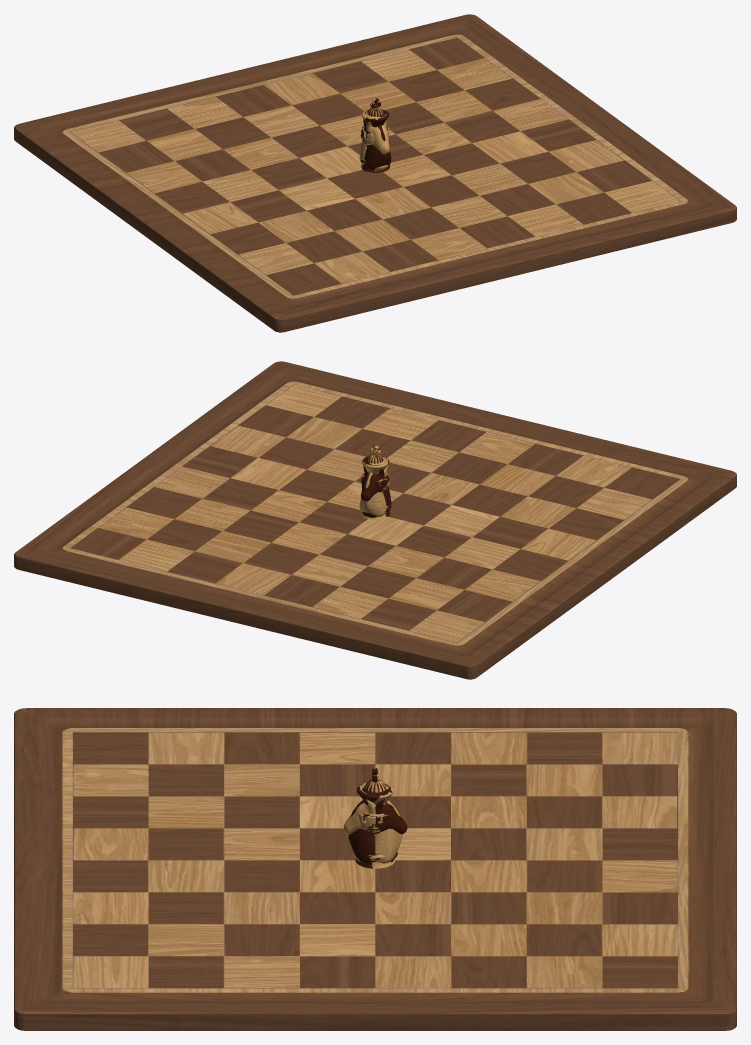
Rendered from chess-set-wood-v1-1k.glb.
3 views of the same model, one above another, from view 1: azimuth 30°, elevation 25°; view 2: azimuth 150°, elevation 25°; view 3: azimuth 270°, elevation 25° (orthographic). The views are drawn at different scales.
Visible parts, largest first — view 1: board, piece_knight_white, piece_knight_black; view 2: board, piece_knight_black, piece_knight_white; view 3: board, piece_knight_white, piece_knight_black, piece_queen_white, piece_queen_black.
Boxes of the visible parts, x1=… form: board: x1=14, y1=14, x2=736, y2=332; piece_knight_white: x1=359, y1=118, x2=389, y2=170; piece_knight_black: x1=360, y1=118, x2=391, y2=169; board: x1=14, y1=361, x2=736, y2=679; piece_knight_black: x1=361, y1=466, x2=391, y2=517; piece_knight_white: x1=359, y1=465, x2=389, y2=516; board: x1=14, y1=708, x2=736, y2=1030; piece_knight_white: x1=343, y1=799, x2=402, y2=863; piece_knight_black: x1=348, y1=799, x2=407, y2=863; piece_queen_white: x1=359, y1=775, x2=395, y2=868; piece_queen_black: x1=355, y1=775, x2=392, y2=868.
Bounding box in the file's own units: 0.5532 × 0.0953 × 0.5532.
3 materials, 3 textured.
